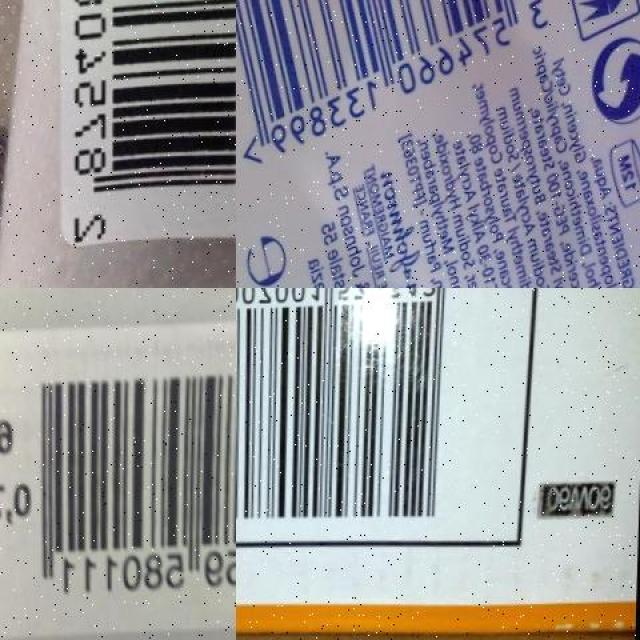Barcode: (236, 288, 541, 571), (236, 0, 567, 188), (27, 332, 236, 623), (37, 0, 236, 267)
